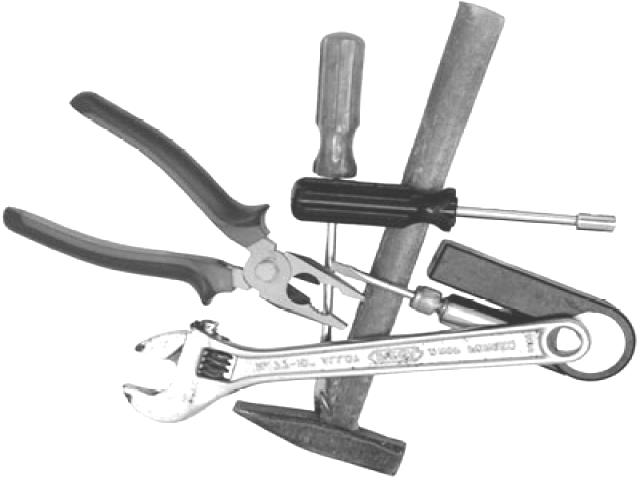Adjustable spanner: (122, 319, 590, 423)
Hammer: (235, 3, 502, 476)
Pliers: (4, 93, 362, 329)
Screwdriver: (291, 178, 616, 232), (314, 33, 365, 347), (330, 262, 508, 327)
